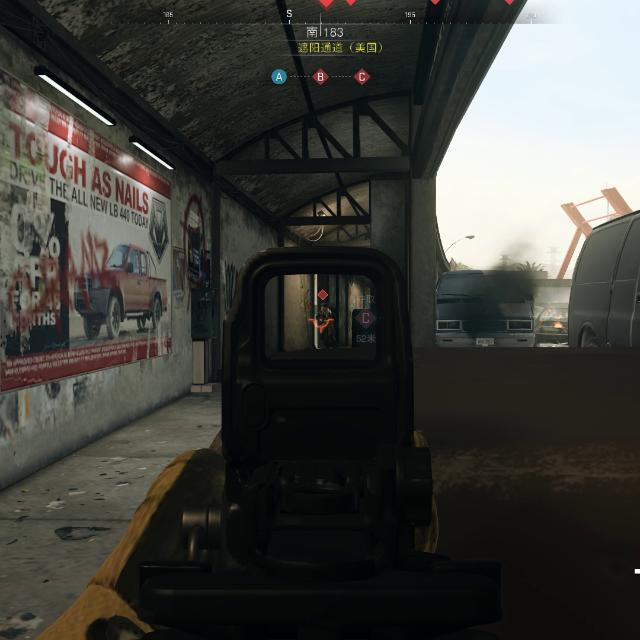MW2_body: (317, 289, 335, 333)
